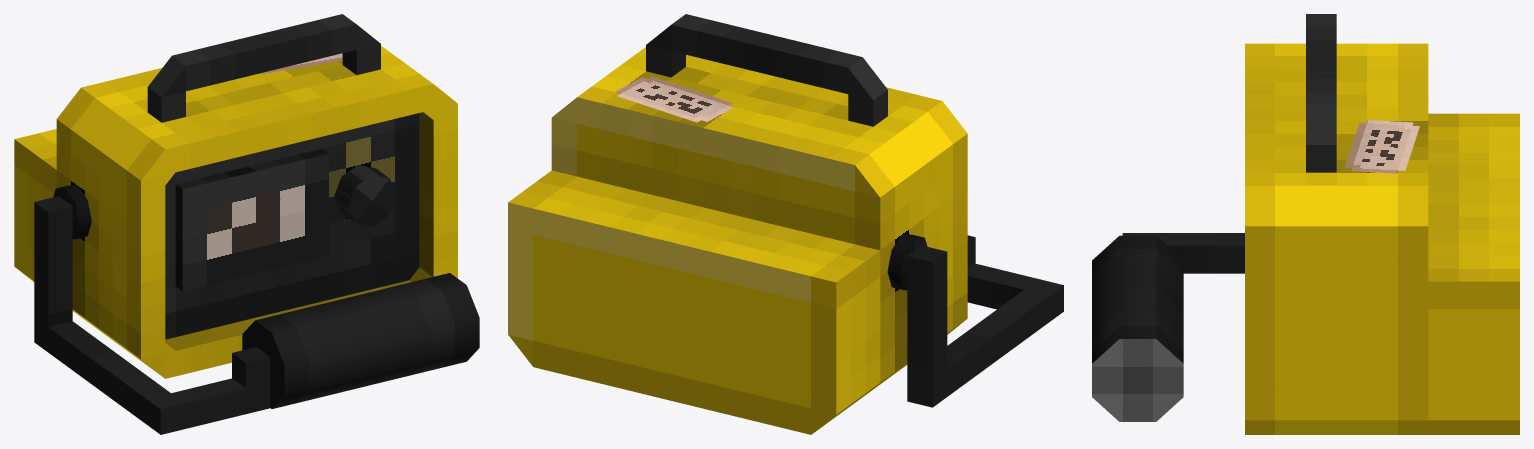
The model's file is geiger_counter.obj.
3 views of the same model, side by side, from view 1: azimuth 30°, elevation 25°; view 2: azimuth 150°, elevation 25°; view 3: azimuth 270°, elevation 25° (orthographic). The views are drawn at different scales.
Visible parts, largest first — view 1: Cube.001; view 2: Cube.001; view 3: Cube.001.
Part boxes in pixels (x1,y1,x2,y2): Cube.001: (14, 14, 479, 434); Cube.001: (508, 14, 1063, 434); Cube.001: (1092, 14, 1519, 434).
Size of the model in its own units: 0.9062 by 0.6875 by 0.875.
